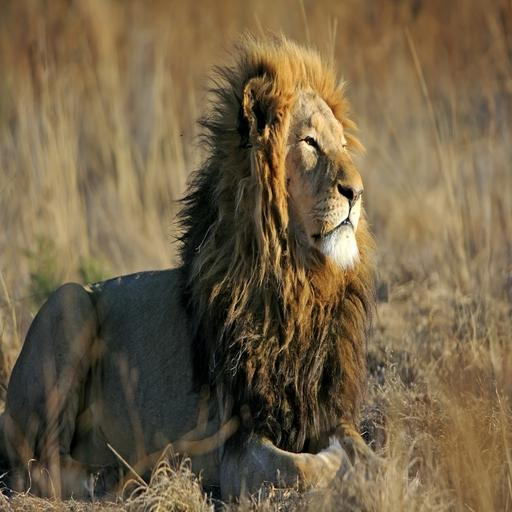Lion: (0, 29, 380, 500)
